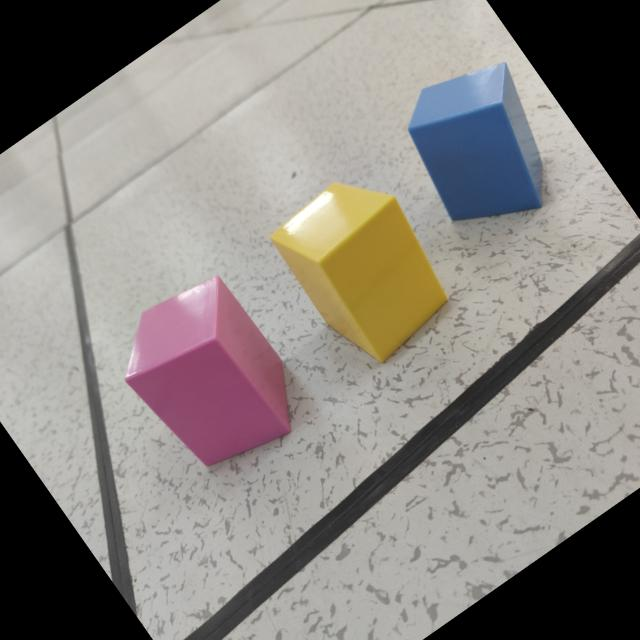blue: (408, 64, 545, 225)
pink: (125, 276, 292, 469)
yellow: (270, 182, 449, 363)
